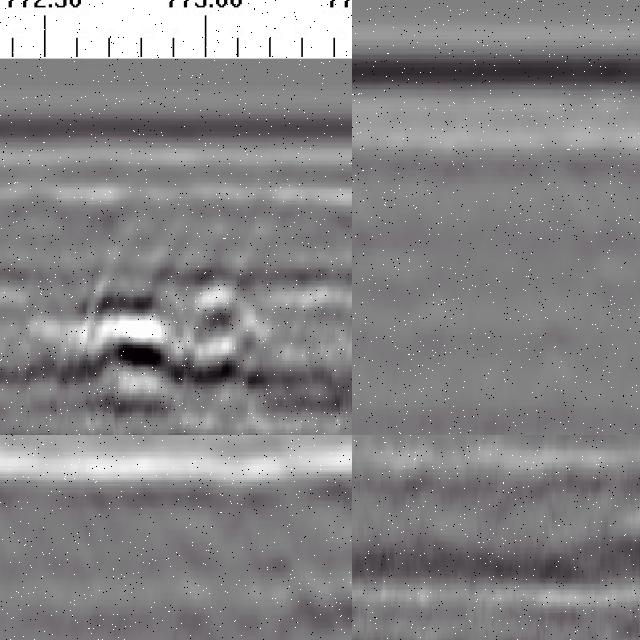loose: (69, 256, 308, 436), (271, 467, 353, 639)
